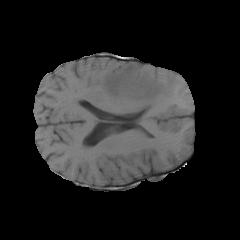glioma: (101, 62, 176, 112)
